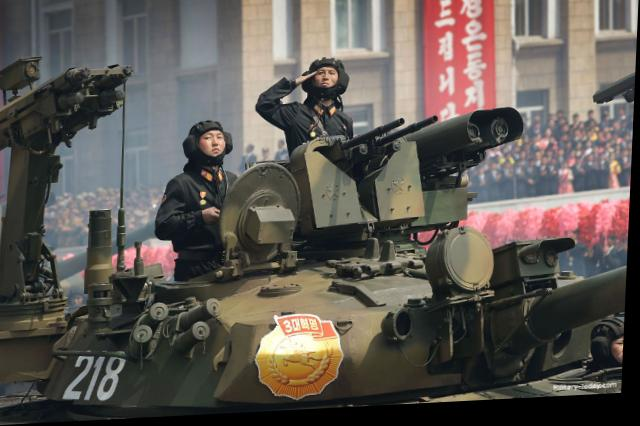other: (153, 108, 245, 264), (262, 50, 362, 159)
